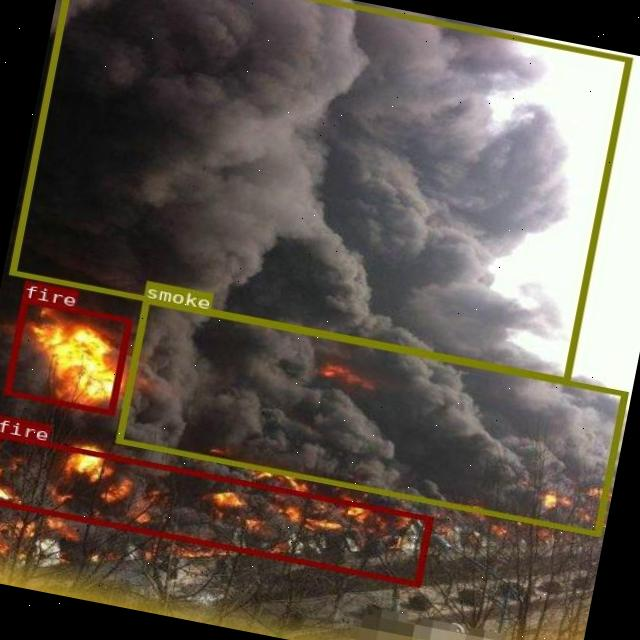fire: (0, 432, 432, 586), (3, 296, 132, 414)
smoke: (9, 0, 632, 383), (114, 298, 627, 536)
